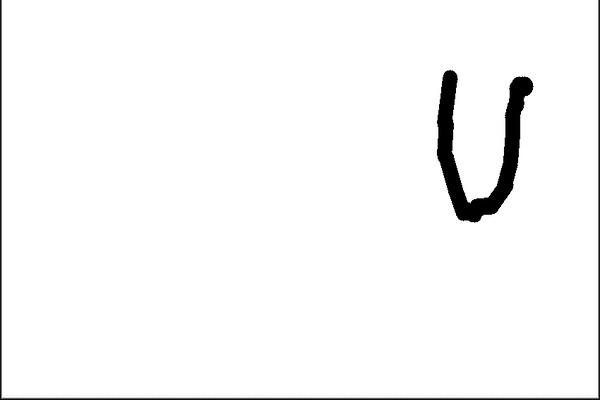U: (421, 59, 537, 225)
